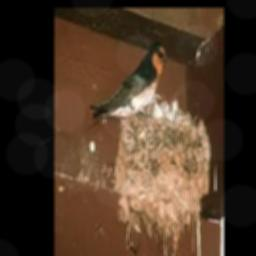Swallow: (90, 42, 166, 120)
